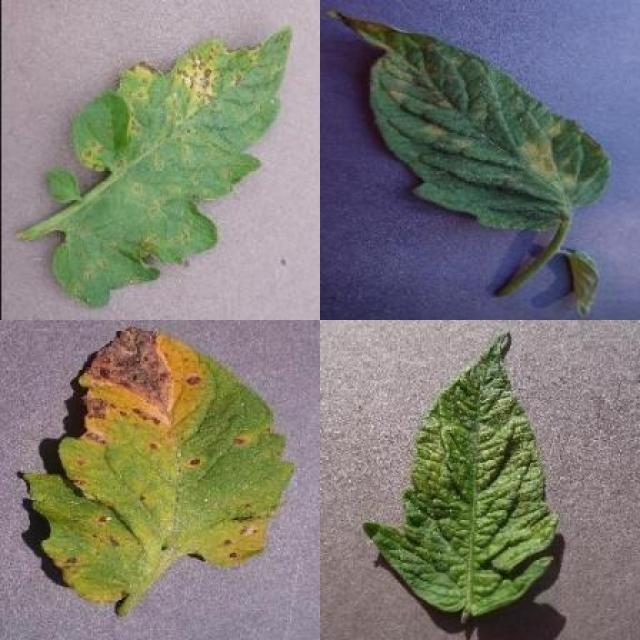Leaf Mold: (328, 10, 613, 233)
Septoria: (23, 326, 298, 601), (52, 26, 288, 310)
Spider Mites: (362, 334, 558, 614)
